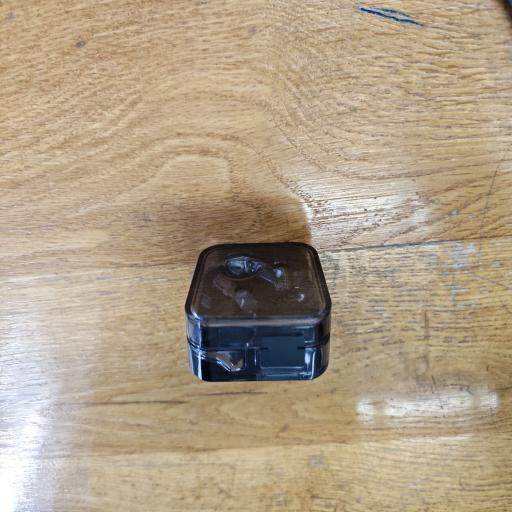Headphones: (180, 234, 336, 386)
